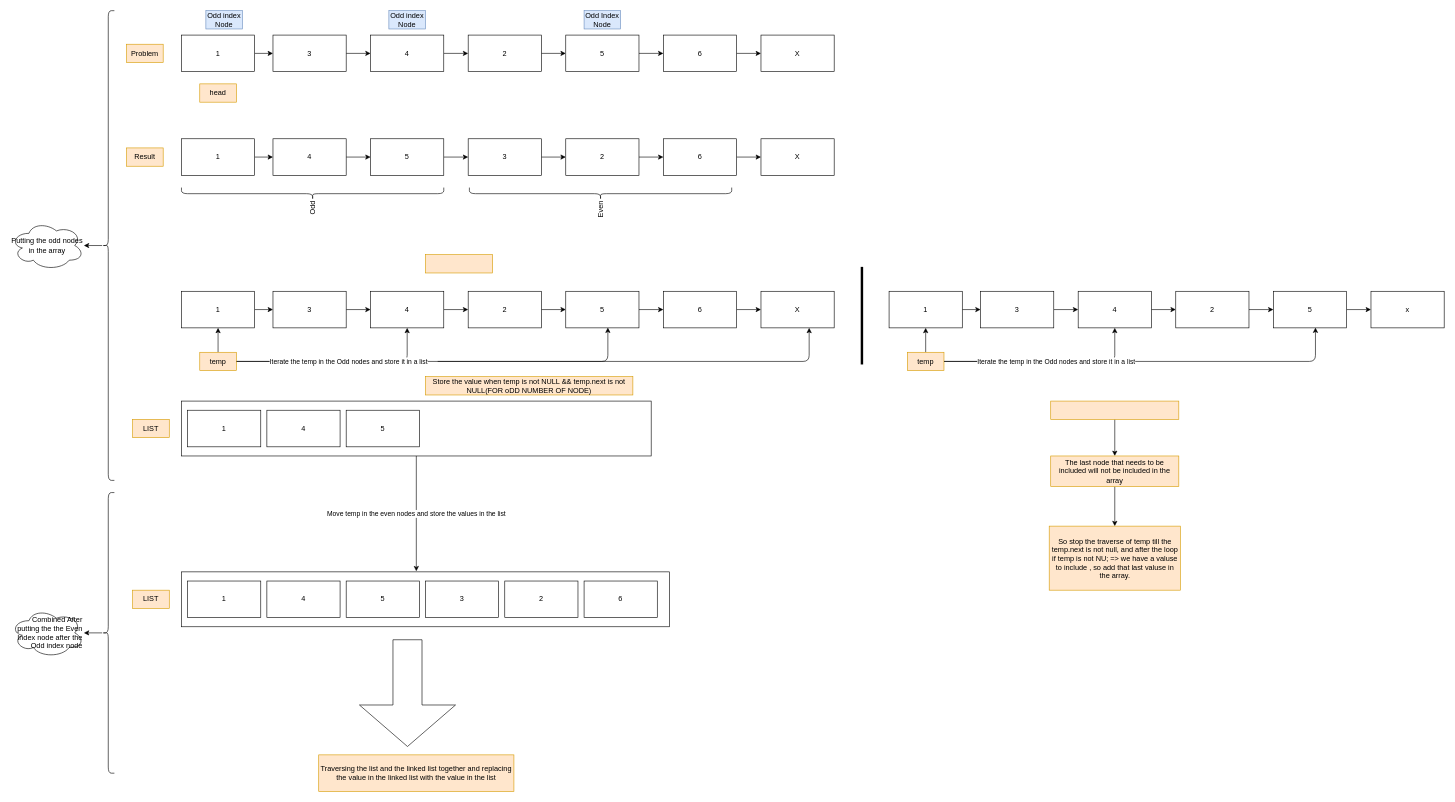
Some shapes in this 1455 by 802 pixel diagram are drawn without their labels. Here are the shapes that lost their labels. From the top down, the centre of each, then its label:
At (x=459, y=263): "Brute Force".
At (x=1114, y=409): "If we use temp.next !=NULL".
At (x=407, y=693): "Putting the values from the list to the linked list".
